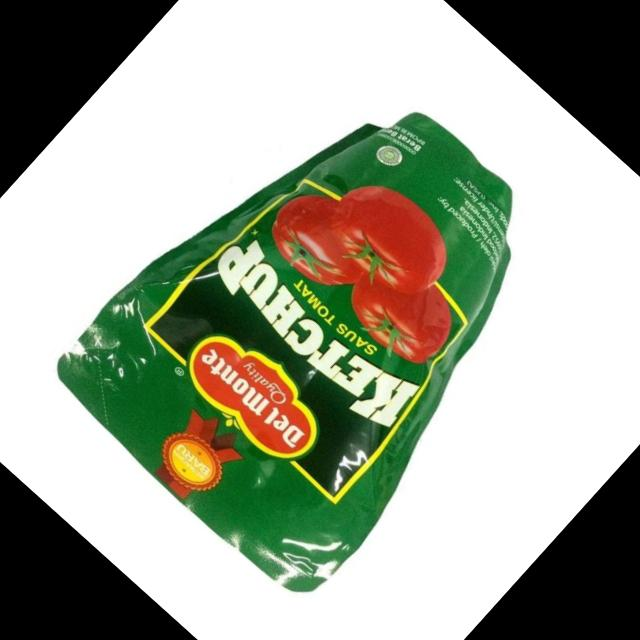KemasanPlastik: (38, 36, 608, 614)
